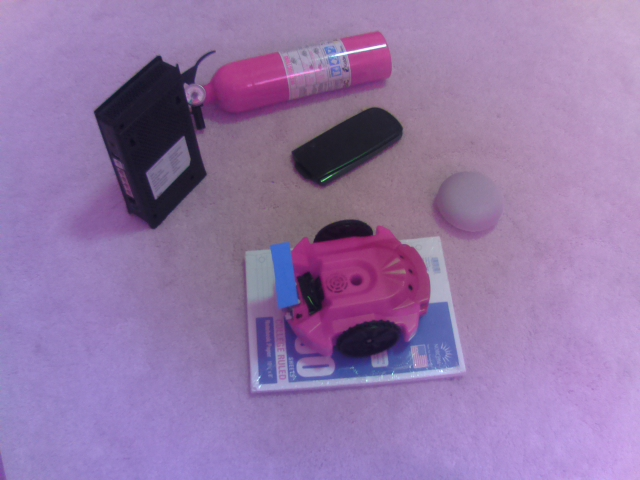board: (265, 240, 306, 314)
chassis: (264, 213, 433, 356)
